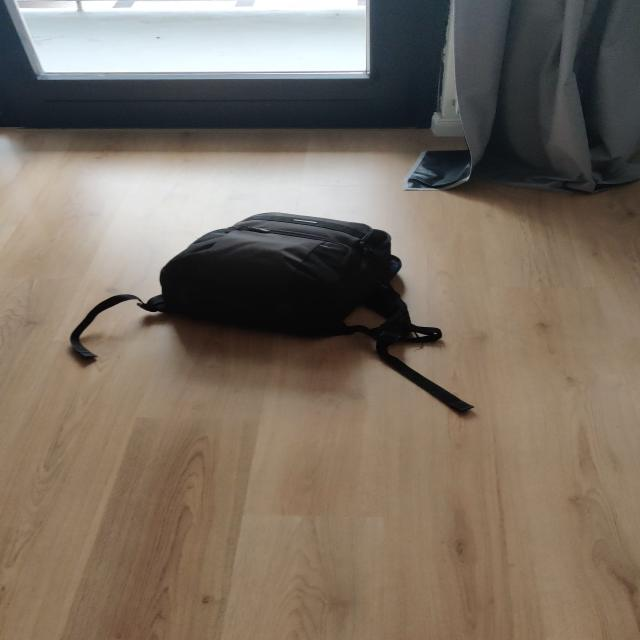backpack: (147, 208, 420, 343)
